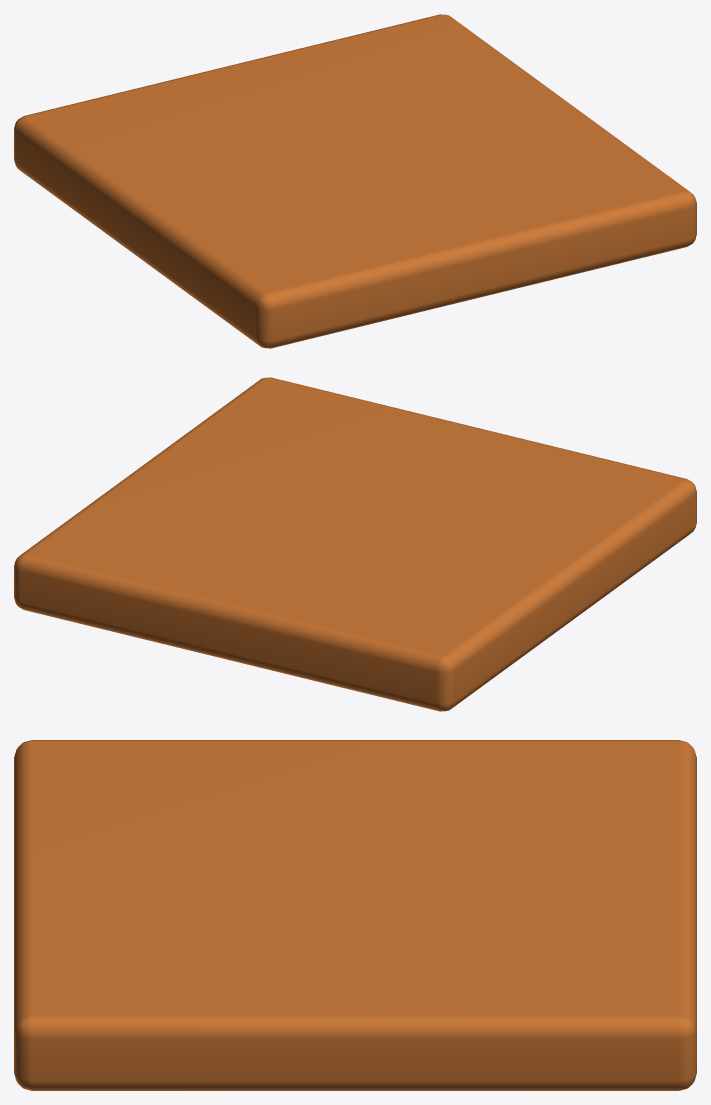
3 views of the same model, one above another, from view 1: azimuth 30°, elevation 25°; view 2: azimuth 150°, elevation 25°; view 3: azimuth 270°, elevation 25° (orthographic). The views are drawn at different scales.
Visible parts, largest first — view 1: part_061; view 2: part_061; view 3: part_061.
Boxes of the visible parts, left/top/right/bottom form: part_061: left=14, top=14, right=696, bottom=348; part_061: left=14, top=377, right=696, bottom=711; part_061: left=14, top=740, right=696, bottom=1090.
Bounding box in the file's own units: 0.5 × 0.06 × 0.5.
